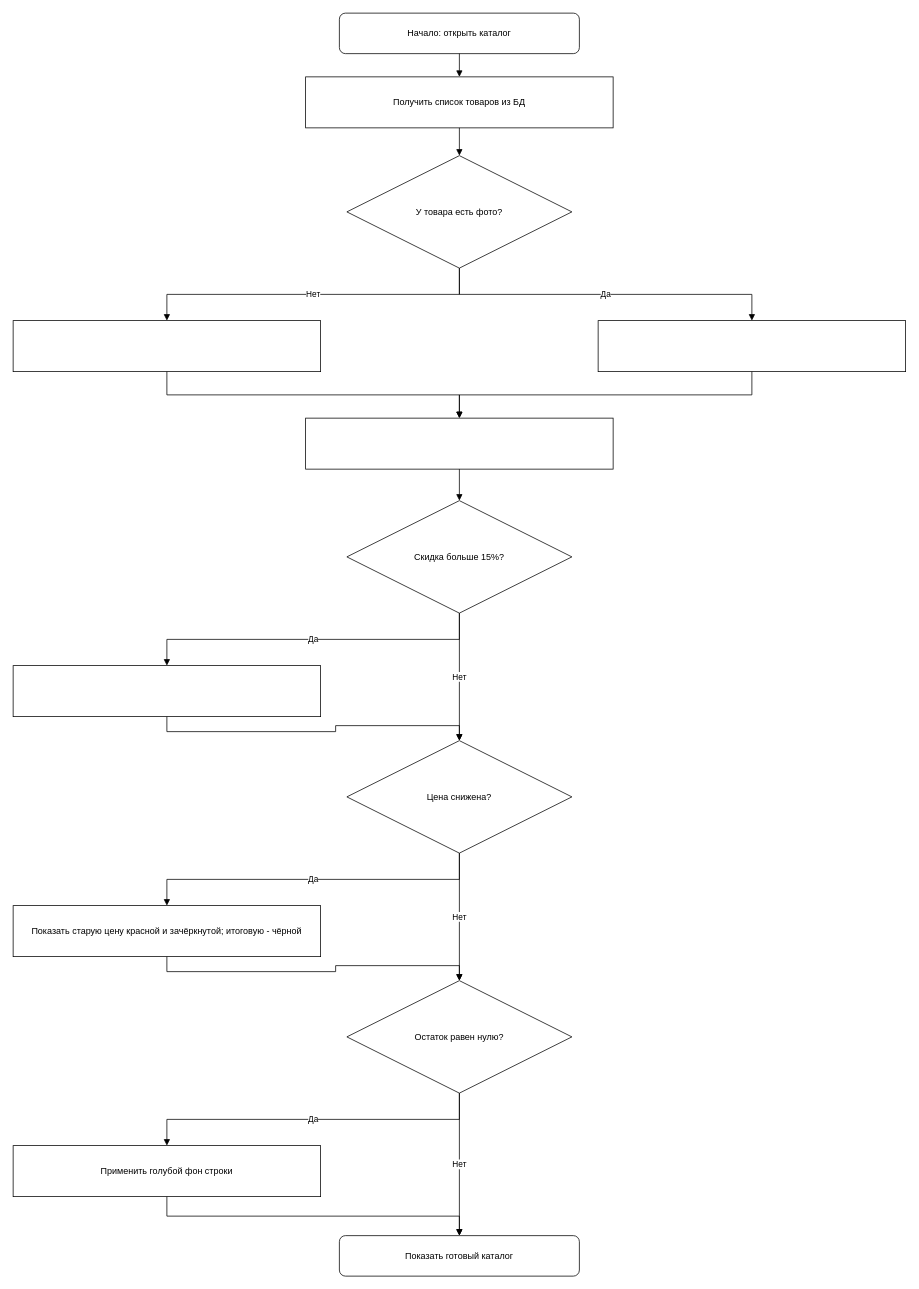
This 919x1289 diagram has some shape labels left out. The box of each missing label's shape, as (x1, y1, x2, y2) in pixels:
Вывести данные товара: (305, 417, 613, 469)
Показать заглушку picture.png: (12, 320, 321, 372)
Показать фото товара: (597, 320, 906, 372)
Применить зелёный фон строки #2E8B57: (12, 665, 321, 717)
